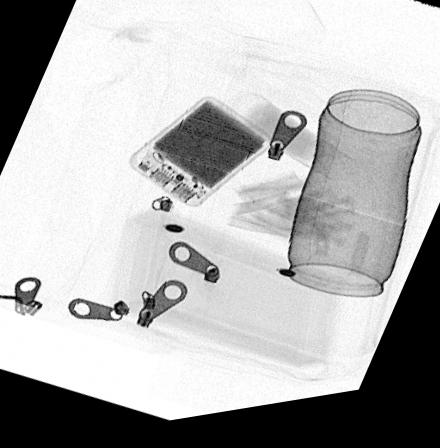Powerbank: (127, 101, 272, 213)
